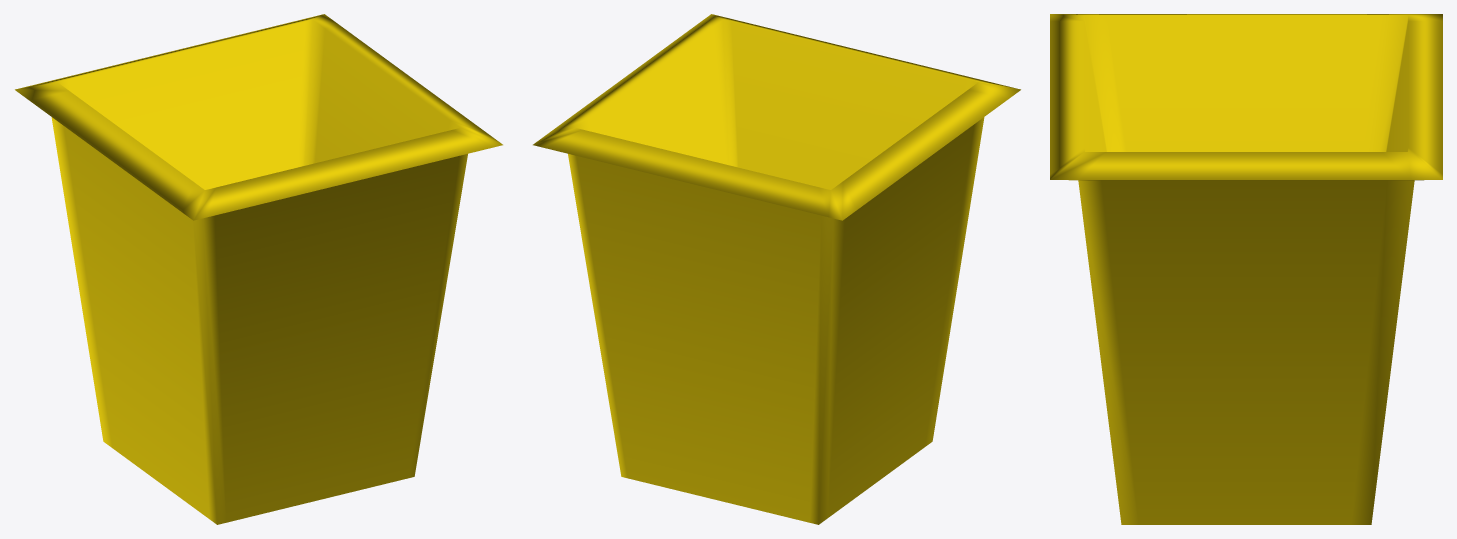
File: trash.fbx
3 renders of one model, left to right at view 1: azimuth 30°, elevation 25°; view 2: azimuth 150°, elevation 25°; view 3: azimuth 270°, elevation 25°, orthographic. The views are drawn at different scales.
Parts seen in each view (by area): view 1: Cube; view 2: Cube; view 3: Cube.
Part boxes in pixels (left/top/right/bottom): Cube: left=15, top=14, right=502, bottom=524; Cube: left=533, top=14, right=1020, bottom=524; Cube: left=1050, top=14, right=1442, bottom=524.
Bounding box in the file's own units: 314 × 343 × 314.
